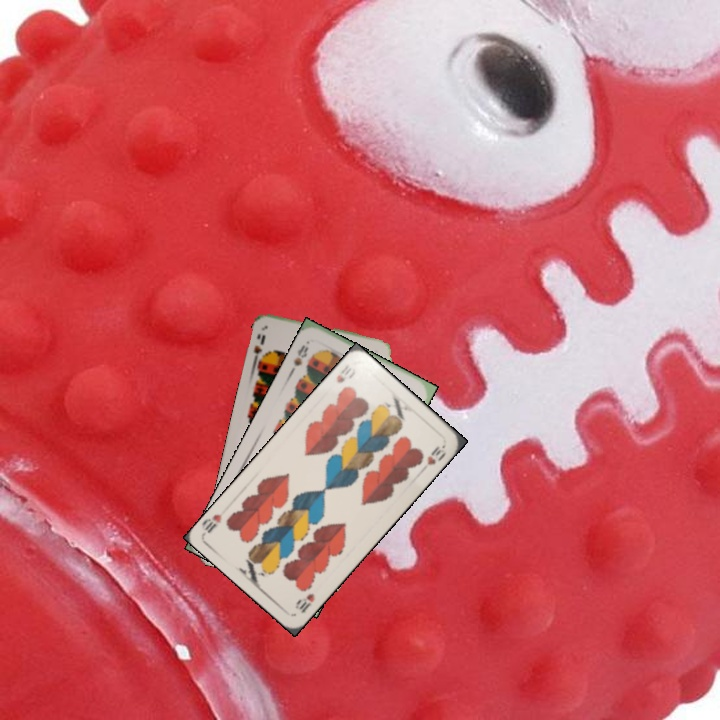H10: (291, 589, 317, 616), (332, 364, 358, 386)
S8: (287, 341, 311, 374)
S9: (248, 330, 269, 367)
